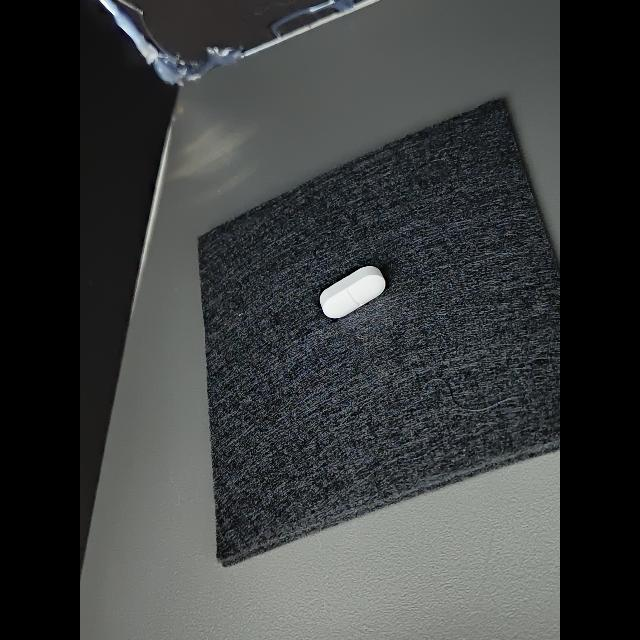Intact Pill: (320, 266, 386, 318)
